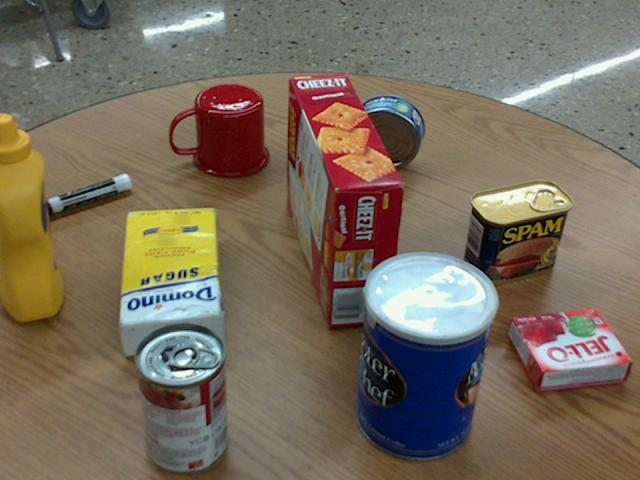cracker_box: (288, 75, 404, 327)
gelatin_box: (510, 308, 631, 390)
large_marker: (24, 173, 130, 219)
master_chef_can: (356, 252, 497, 461)
mug: (170, 84, 268, 177)
mustard_bottle: (0, 113, 62, 319)
potted_meat_can: (463, 180, 572, 285)
sugar_box: (117, 207, 220, 354)
tomato_soup_can: (132, 323, 225, 472)
tuna_fish_can: (349, 95, 422, 168)
